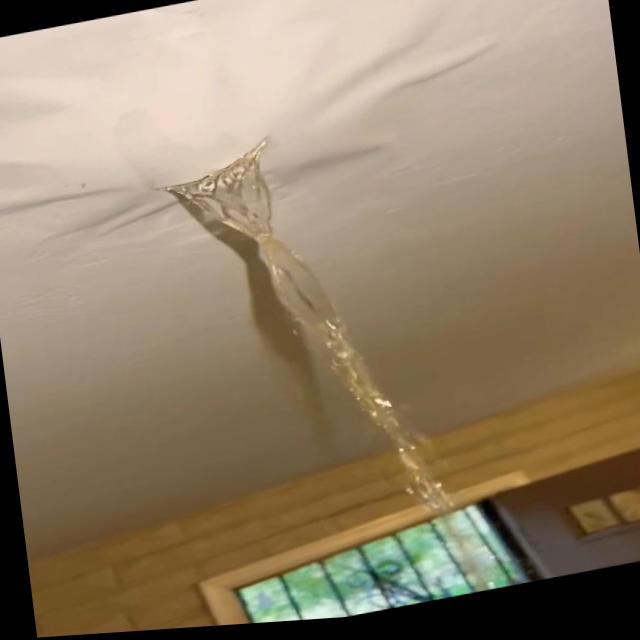leak: (129, 115, 461, 551)
